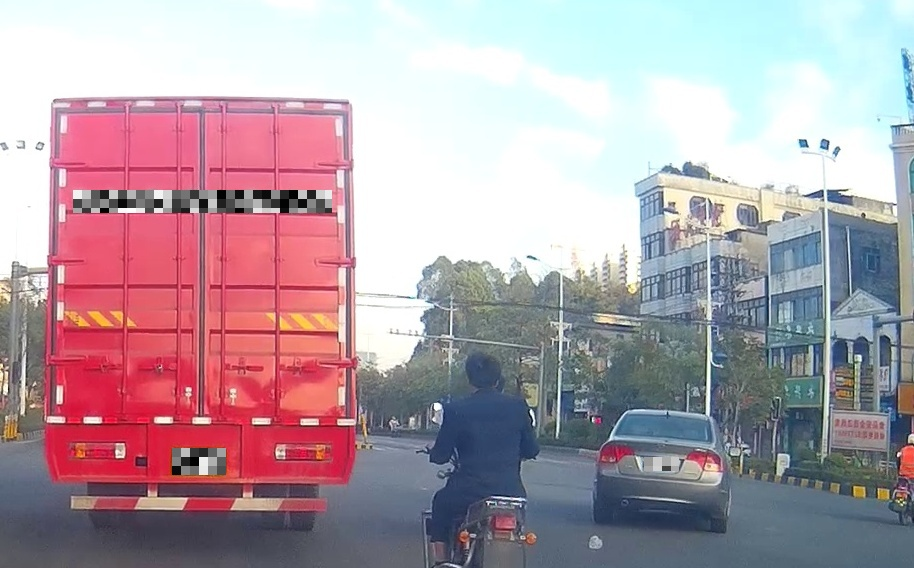L_light: (68, 442, 126, 459), (597, 443, 635, 463)
R_light: (275, 443, 332, 461), (685, 450, 723, 473)
T_light: (180, 112, 222, 123), (659, 414, 676, 419)
day-no: (42, 95, 358, 531)
day-right: (592, 409, 728, 532)
plate_1: (73, 190, 332, 213)
plate_2: (172, 448, 226, 475)
plate_3: (644, 457, 679, 471)
